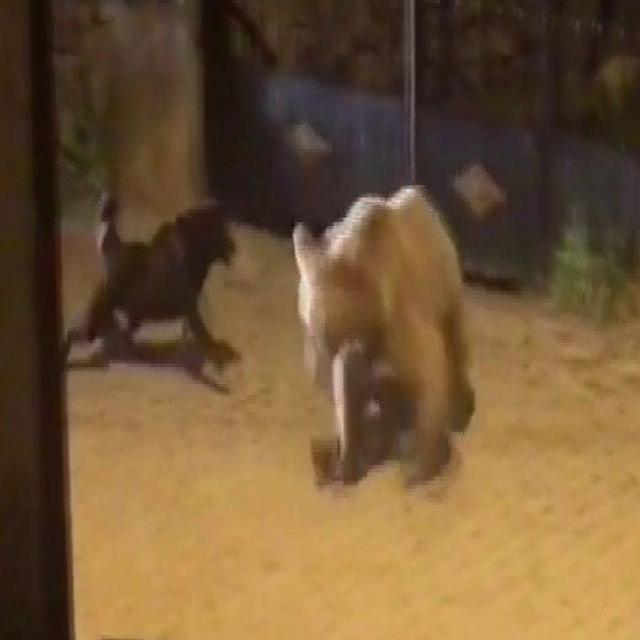Bear: (292, 188, 477, 495)
